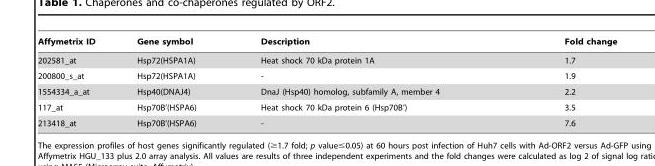table: (37, 36, 616, 127)
table column: (227, 36, 501, 127), (501, 36, 616, 127), (115, 36, 227, 127), (37, 36, 115, 127)
table column header: (37, 36, 616, 50)
table row: (37, 50, 616, 67), (37, 67, 616, 83), (37, 83, 616, 99), (37, 99, 616, 115), (37, 36, 616, 50), (37, 115, 616, 127)
